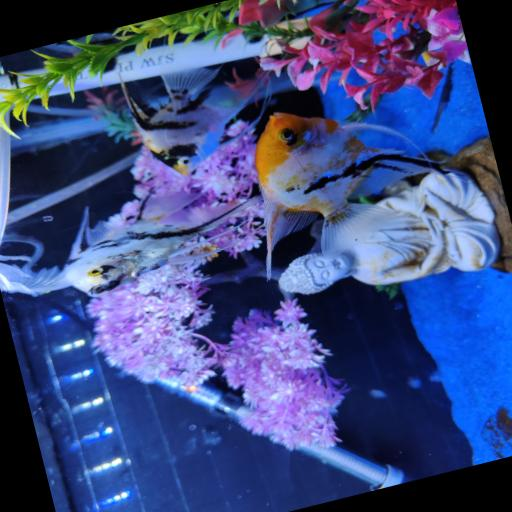Fish: (255, 112, 443, 278), (63, 191, 261, 295), (123, 67, 265, 174), (0, 261, 69, 294)
